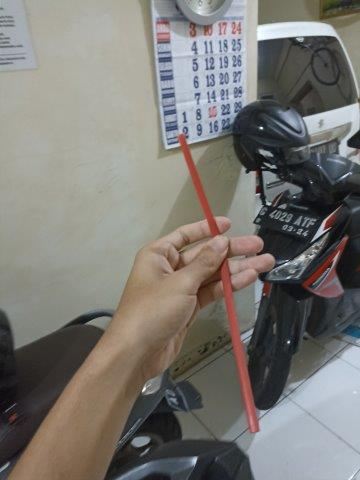sedotan: (178, 135, 259, 431)
